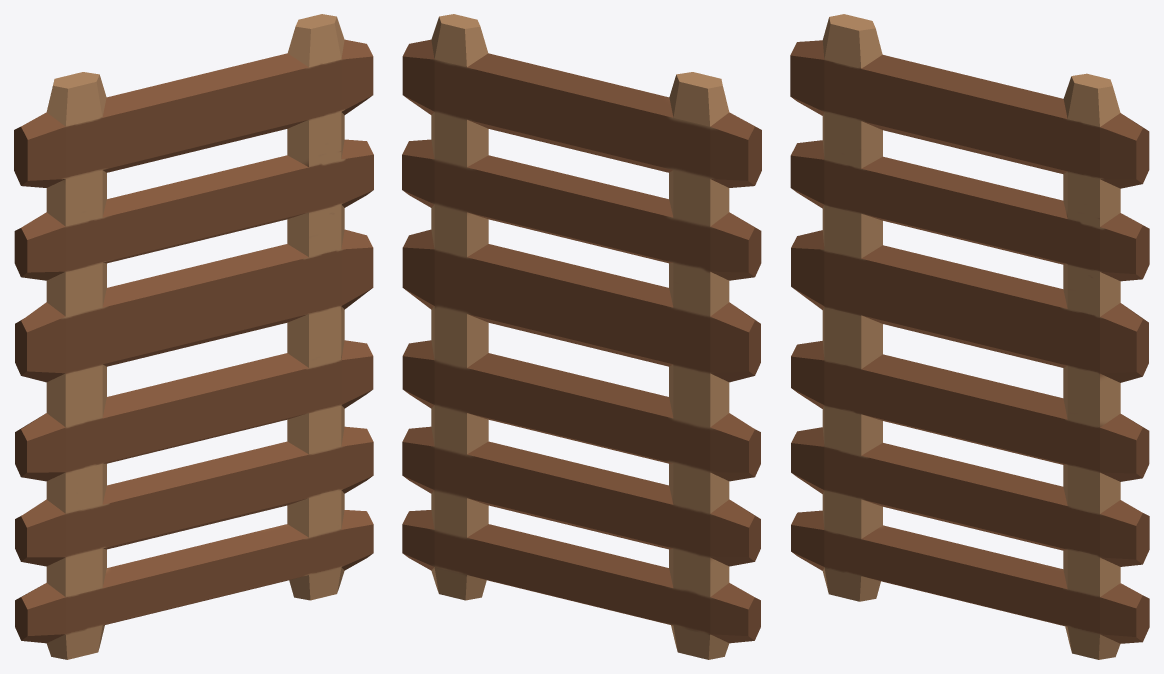
File: ladder.fbx
3 views of the same model, side by side, from view 1: azimuth 30°, elevation 25°; view 2: azimuth 150°, elevation 25°; view 3: azimuth 330°, elevation 25° (orthographic).
Visible parts, largest first — view 1: Cube.001; view 2: Cube.001; view 3: Cube.001.
Boxes of the visible parts, x1,y1,x2,y2 form: Cube.001: [14, 14, 373, 659]; Cube.001: [402, 14, 761, 659]; Cube.001: [790, 14, 1149, 659].
Bounding box in the file's own units: 200 × 315 × 17.41.
